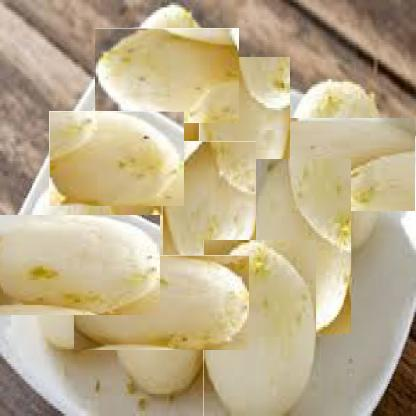rasgulla: (203, 240, 316, 416), (6, 197, 142, 333), (94, 235, 229, 371), (252, 158, 352, 334), (272, 99, 401, 229), (108, 16, 227, 136), (59, 101, 174, 216), (199, 56, 290, 192), (163, 141, 257, 268)
